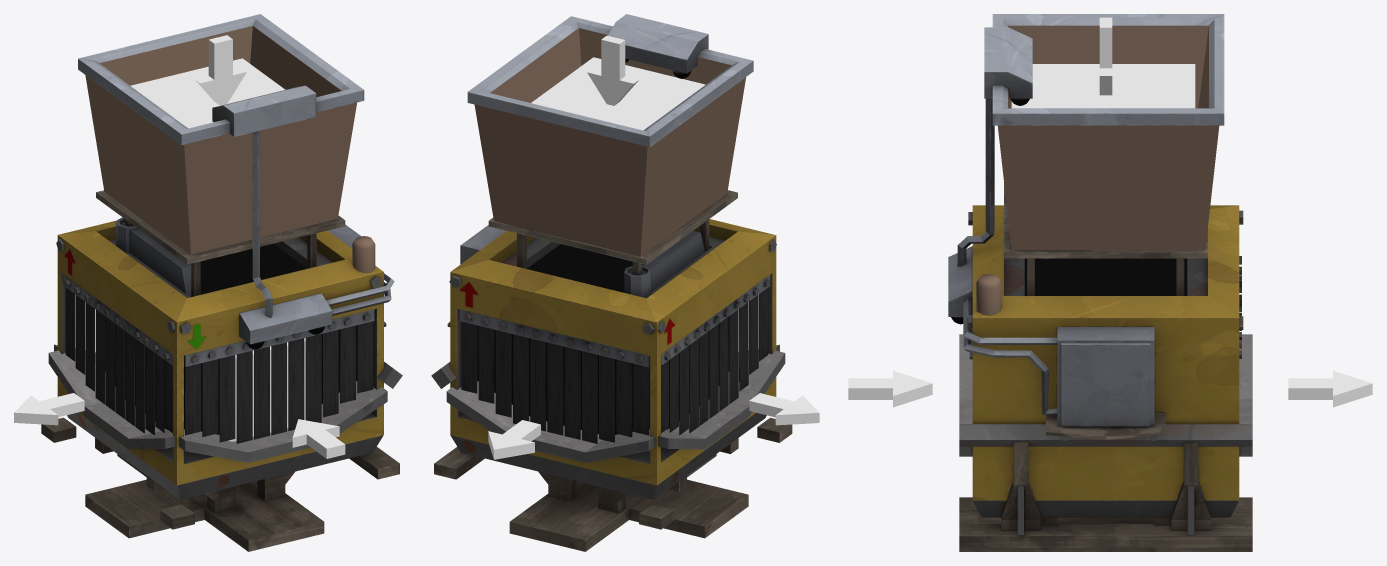
The model's file is ConveyorSorter_Mirror.glb.
The picture shows the model from 3 angles, left to right: view 1: azimuth 30°, elevation 25°; view 2: azimuth 150°, elevation 25°; view 3: azimuth 270°, elevation 25°; orthographic projection. The views are drawn at different scales.
Visible parts, largest first — view 1: ConveyorSorter_Mirror, FilterTrigger, ghostarrow (3), ghostarrow (2), ghostarrow, SorterTrigger; view 2: ConveyorSorter_Mirror, FilterTrigger, ghostarrow (3), ghostarrow (2), ghostarrow (1); view 3: ConveyorSorter_Mirror, FilterTrigger, ghostarrow (1), ghostarrow, ghostarrow (3).
Part boxes in pixels (x1,y1,x2,y2): ConveyorSorter_Mirror: [41, 14, 402, 551]; FilterTrigger: [130, 58, 285, 128]; ghostarrow (3): [195, 35, 246, 105]; ghostarrow (2): [14, 393, 84, 425]; ghostarrow: [292, 419, 345, 458]; SorterTrigger: [228, 338, 305, 441]; ConveyorSorter_Mirror: [431, 14, 792, 551]; FilterTrigger: [531, 57, 705, 130]; ghostarrow (3): [587, 35, 638, 105]; ghostarrow (2): [749, 393, 819, 425]; ghostarrow (1): [488, 420, 540, 459]; ConveyorSorter_Mirror: [948, 14, 1252, 551]; FilterTrigger: [1011, 64, 1195, 108]; ghostarrow (1): [1288, 370, 1372, 407]; ghostarrow: [848, 370, 932, 407]; ghostarrow (3): [1099, 17, 1112, 95].
Size of the model in its own units: 1.55 by 1.91 by 1.79.
7 materials, 3 textured.
